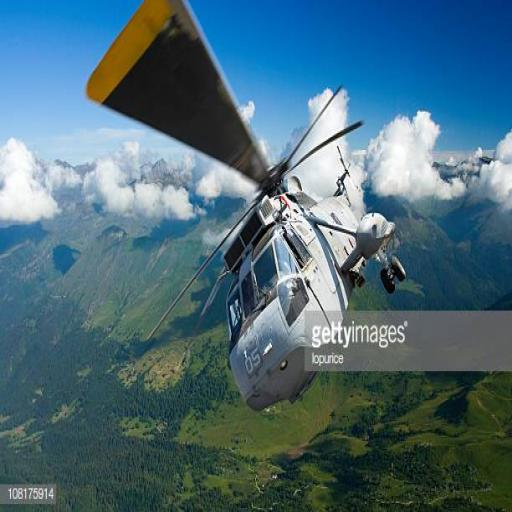helicopter: (79, 2, 410, 416)
